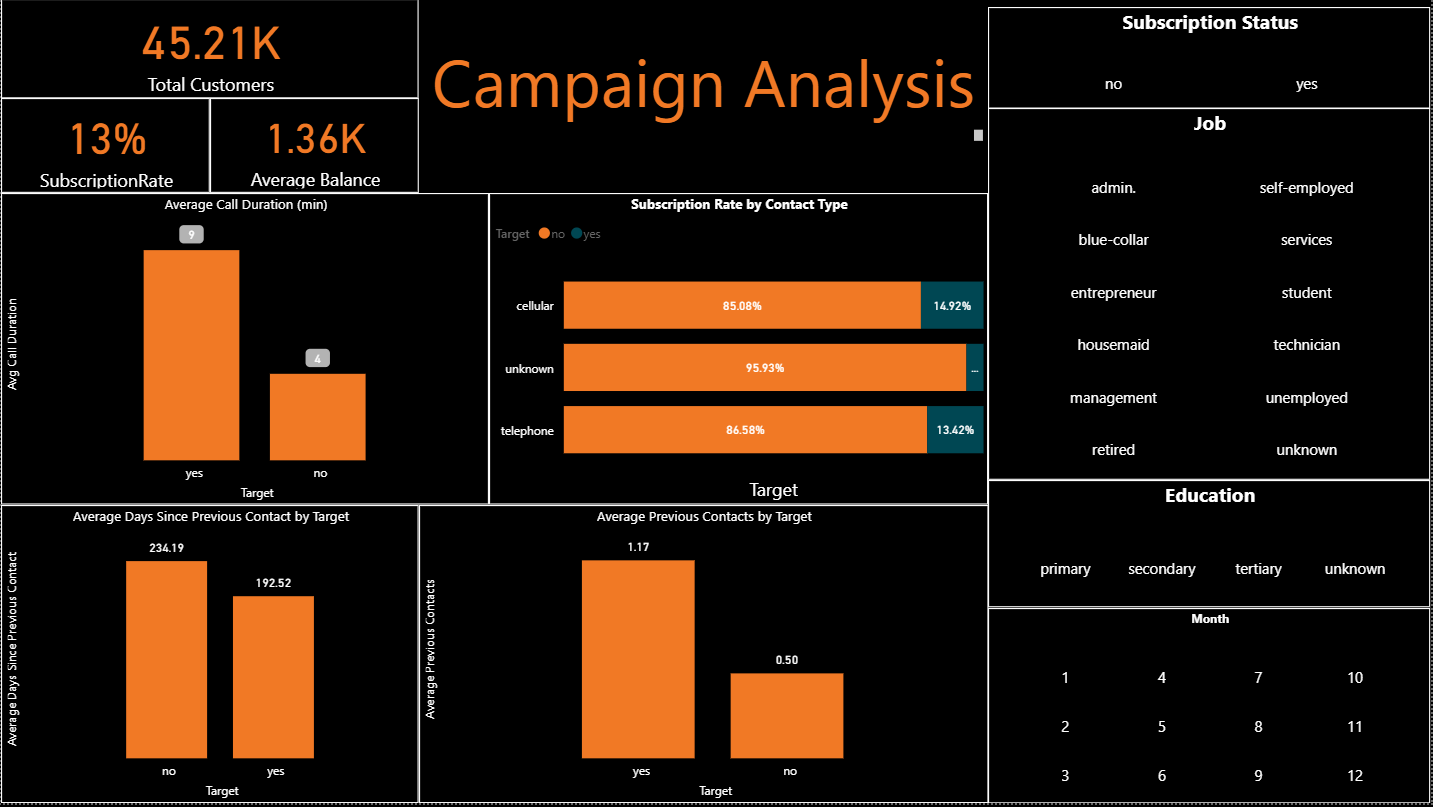

The page's visual inventory and layout, read from the dashboard file:
{"tool":"powerbi","page":{"name":"Campaign Analysis","canvas":[1280,720],"ordinal":2},"visuals":[{"type":"clusteredColumnChart","fields":{"Category":["bank-full.Target"],"Y":["Avg(bank-full.pdays)"]},"box":[0,453.1,374.3,266.9],"z":0},{"type":"clusteredColumnChart","title":"Average Previous Contacts by Target","fields":{"Category":["bank-full.Target"],"Y":["Avg(bank-full.previous)"]},"box":[374.3,453.1,509.6,266.9],"z":2000},{"type":"lineStackedColumnComboChart","title":"Average Call Duration (min)","fields":{"Category":["bank-full.Target"],"Y":["bank-full.AverageCallDuration"]},"box":[0,173.7,437,279.4],"z":3000},{"type":"card","fields":{"Values":["Avg(bank-full.balance)"]},"box":[187,89,187,85],"z":4000},{"type":"slicer","title":"Subscription Status","fields":{"Values":["bank-full.Target"]},"box":[884,7,396,91],"z":6000},{"type":"card","fields":{"Values":["CountNonNull(bank-full.CustomerID)"]},"box":[0,0,374,89],"z":7000},{"type":"card","fields":{"Values":["bank-full.SubscriptionRate"]},"box":[0,89,187,85],"z":8000},{"type":"slicer","title":"Month","fields":{"Values":["bank-full.month"]},"box":[884,545,396,175],"z":10000},{"type":"slicer","title":"Job","fields":{"Values":["bank-full.job"]},"box":[884,98,396,333],"z":11000},{"type":"slicer","title":"Education","fields":{"Values":["bank-full.education"]},"box":[884,431,396,114],"z":12000},{"type":"textbox","title":"Campaign Analysis","box":[374,34,510,98],"z":13000},{"type":"hundredPercentStackedBarChart","title":"Subscription Rate by Contact Type","fields":{"Y":["CountNonNull(bank-full.Target)"],"Category":["bank-full.contact"],"Series":["bank-full.Target"]},"box":[437,173.7,446.9,279.4],"z":14000}]}

Visuals, with their boxes in screenshot pixels (x1, y1, x2, y2), scaled from the page's 1280x720 canvas onto the 1433x807 screenshot:
clusteredColumnChart - bank-full.Target x Avg(bank-full.pdays): BBox(0, 508, 419, 806)
"Average Previous Contacts by Target" clusteredColumnChart: BBox(419, 508, 990, 806)
"Average Call Duration (min)" lineStackedColumnComboChart: BBox(0, 195, 489, 508)
card - Avg(bank-full.balance): BBox(209, 100, 419, 195)
"Subscription Status" slicer: BBox(990, 8, 1432, 110)
card - CountNonNull(bank-full.CustomerID): BBox(0, 0, 419, 100)
card - bank-full.SubscriptionRate: BBox(0, 100, 209, 195)
"Month" slicer: BBox(990, 611, 1432, 806)
"Job" slicer: BBox(990, 110, 1432, 483)
"Education" slicer: BBox(990, 483, 1432, 611)
"Campaign Analysis" textbox: BBox(419, 38, 990, 148)
"Subscription Rate by Contact Type" hundredPercentStackedBarChart: BBox(489, 195, 990, 508)
